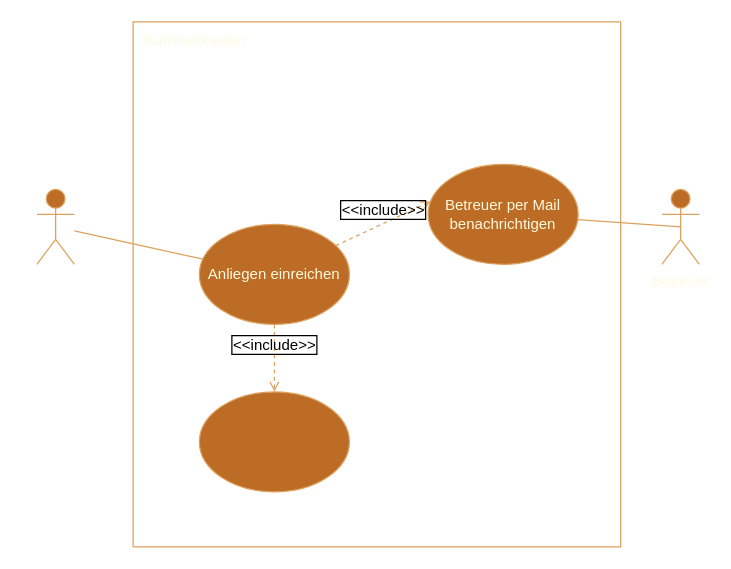
The diagram is 731 pixels wide and 569 high, and some of its shapes have lost their labels. Here are the shapes that lost their labels. From the top down, the centre of each, then its label:
At point 55,226: "Bewohner".
At point 273,441: "Berechtigung anhand Token prüfen".
